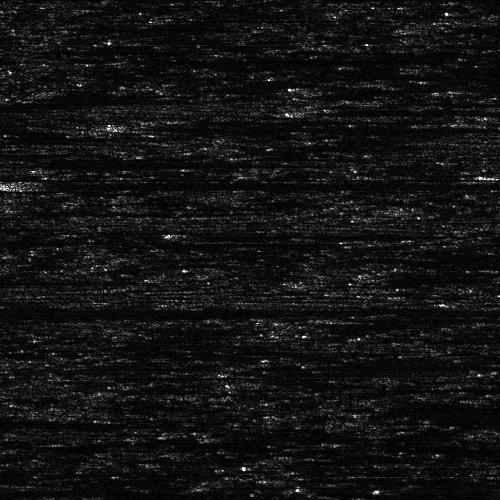rock: (78, 119, 183, 134), (0, 177, 53, 194)
shadow: (12, 177, 416, 194), (131, 119, 464, 134), (0, 305, 415, 314), (0, 417, 124, 428), (0, 156, 16, 167)
